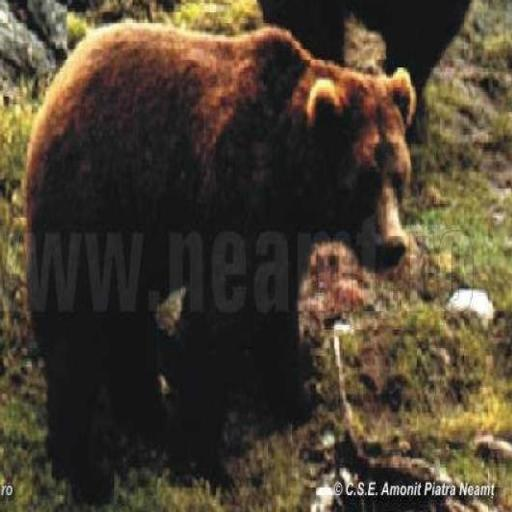Bear: (24, 18, 425, 503)
